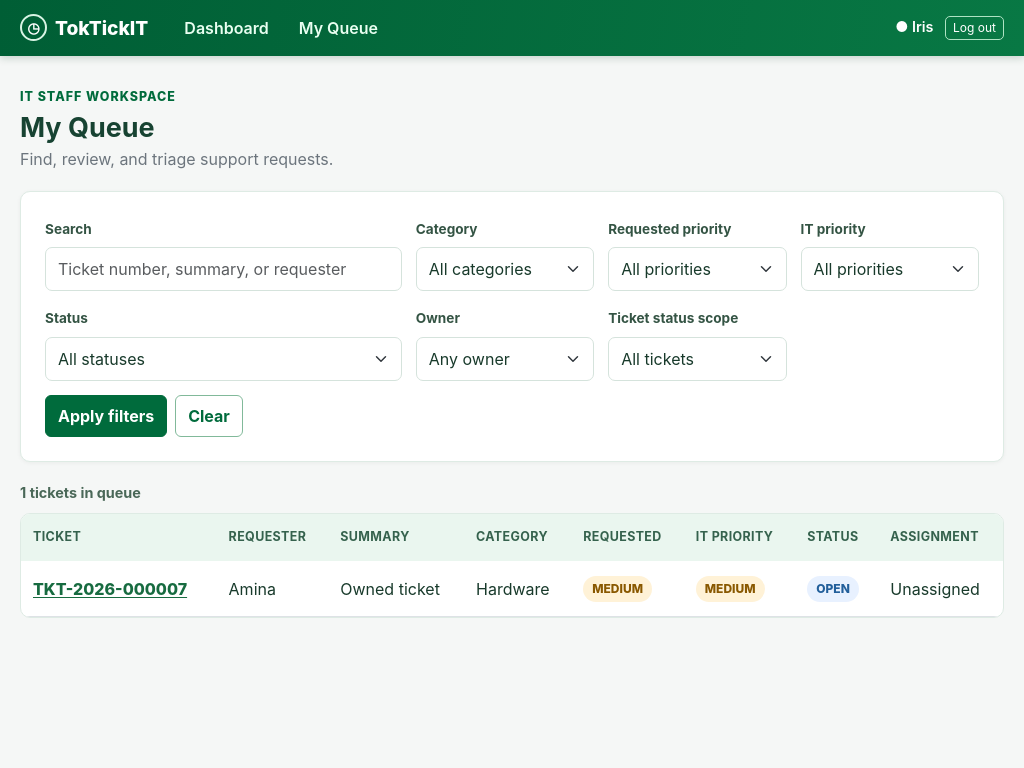
Scenario: Ticket workflow UI › shows requester resolution feedback as read-only in staff detail
The image size is (1024, 768).
Click the button "TKT-2026-000007". click: (110, 589)
box: [33,577,187,601]
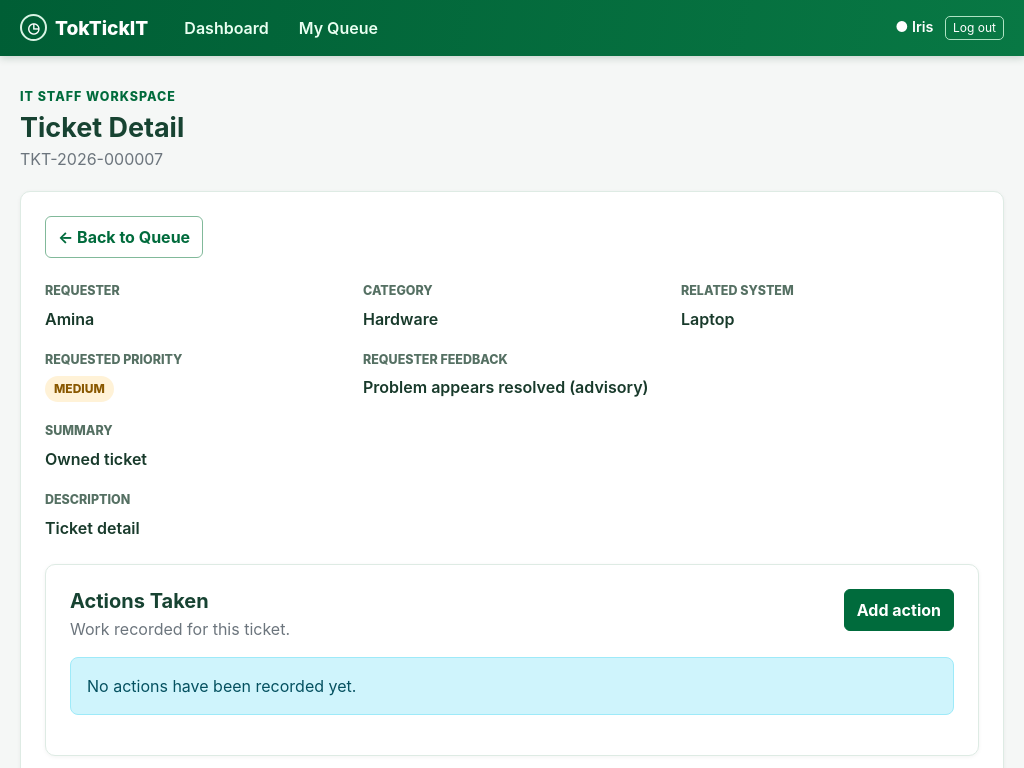
Result: the text "Problem appears resolved (advisory)" is shown at [363,376,661,400]
